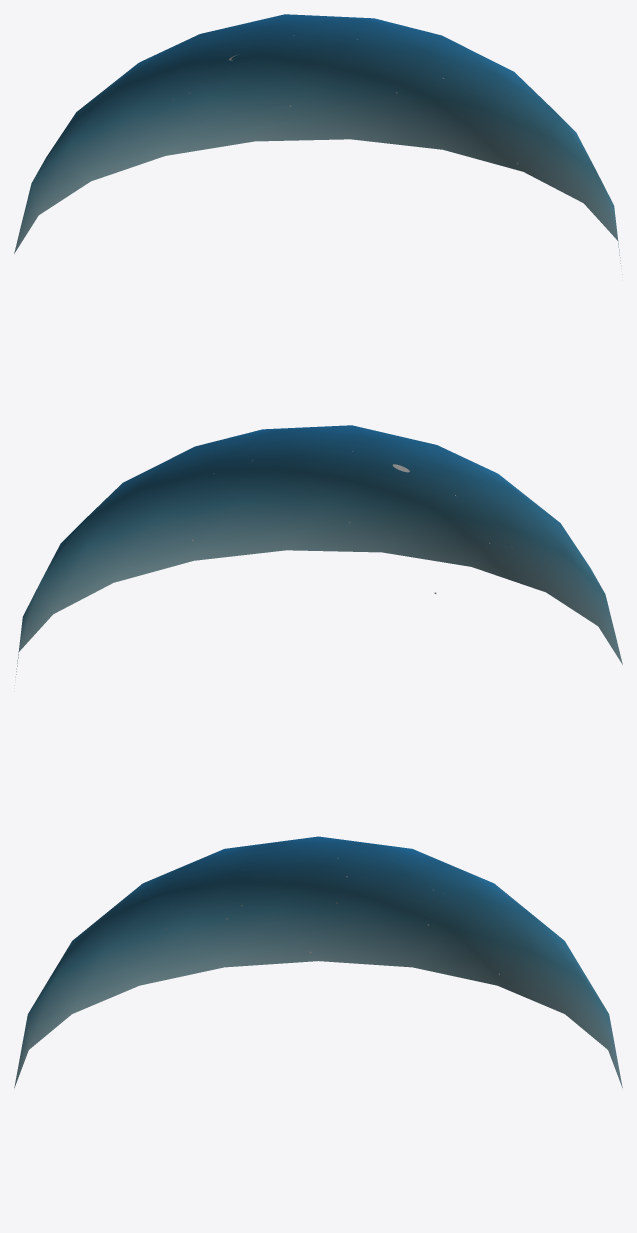
Rendered from SkyDome.glb.
3 views of the same model, one above another, from view 1: azimuth 30°, elevation 25°; view 2: azimuth 150°, elevation 25°; view 3: azimuth 270°, elevation 25° (orthographic).
Visible parts, largest first — view 1: Stars; view 2: Stars; view 3: Stars.
Part boxes in pixels (<box>): Stars: <box>14,14,622,274</box>; Stars: <box>14,425,622,685</box>; Stars: <box>14,836,622,1087</box>.
Bounding box in the file's own units: 65.88 × 26.22 × 65.88.
